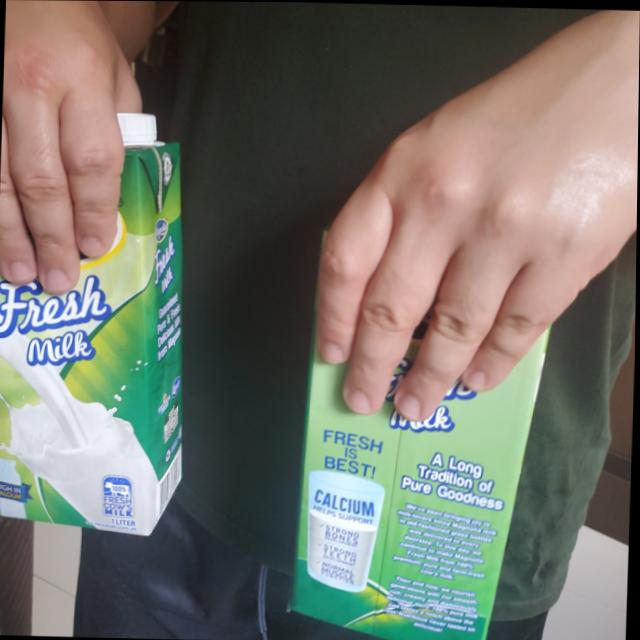milk: (292, 296, 550, 640), (0, 110, 196, 533)
